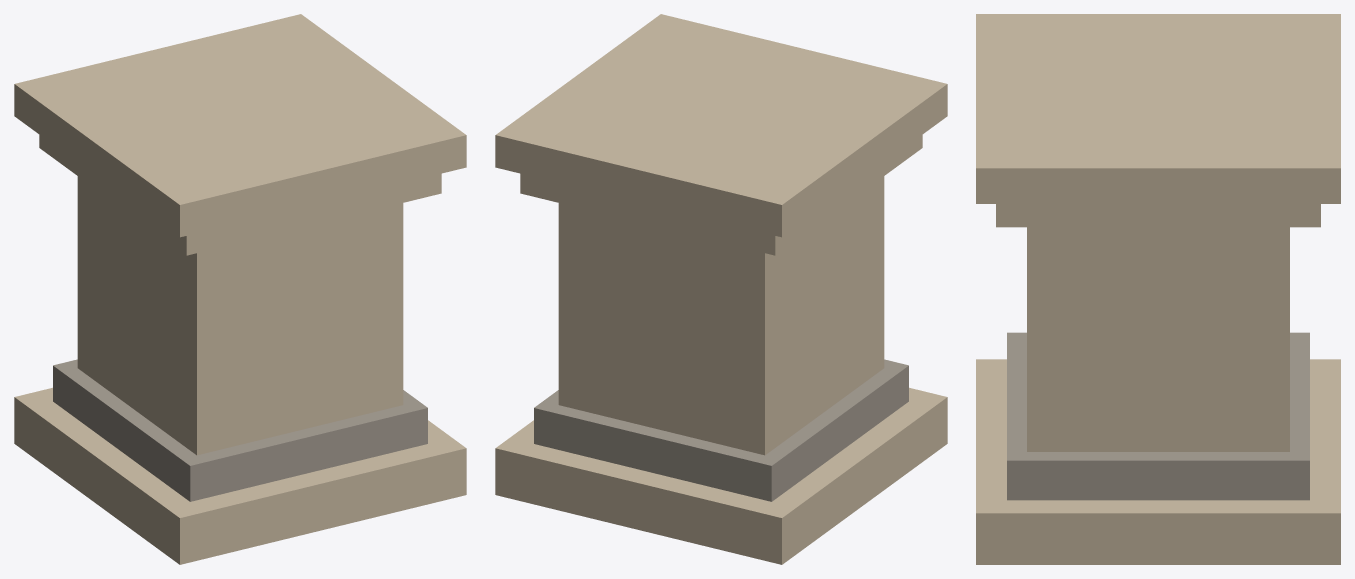
File: statue_pedestal.fbx
3 renders of one model, left to right at view 1: azimuth 30°, elevation 25°; view 2: azimuth 150°, elevation 25°; view 3: azimuth 270°, elevation 25°, orthographic. The views are drawn at different scales.
Parts seen in each view (by area): view 1: statue_pedestal; view 2: statue_pedestal; view 3: statue_pedestal.
Part boxes in pixels (<box>): statue_pedestal: <box>14,14,466,564</box>; statue_pedestal: <box>495,14,947,564</box>; statue_pedestal: <box>976,14,1340,564</box>.
Size of the model in its own units: 2 by 2.4 by 2.
